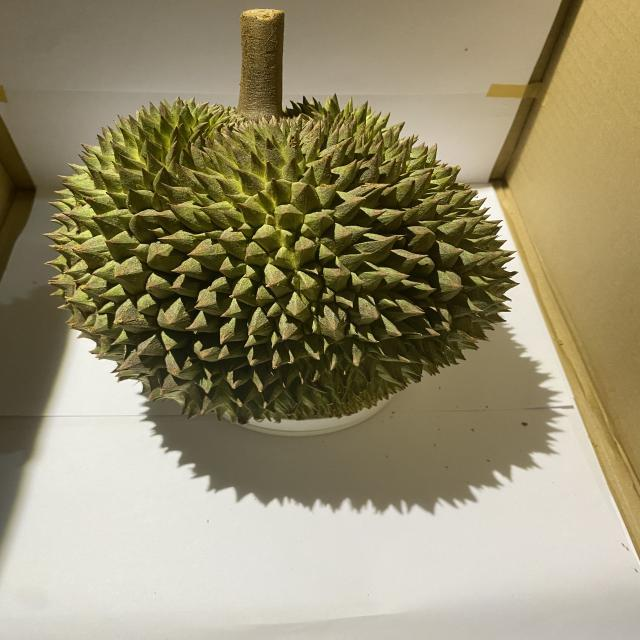immature: (40, 93, 520, 425)
